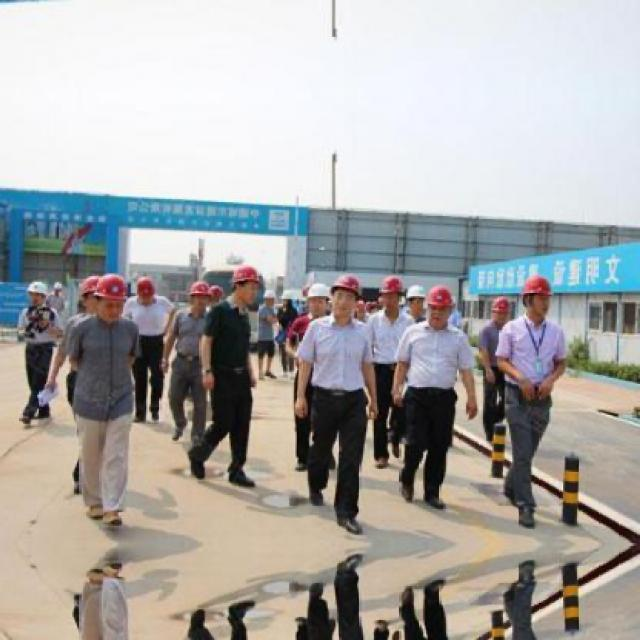helmet: (520, 273, 554, 321), (94, 274, 129, 318), (228, 261, 260, 305), (424, 282, 454, 326), (329, 272, 358, 316), (378, 273, 408, 313), (308, 279, 332, 319), (78, 276, 100, 313), (134, 274, 157, 306), (25, 279, 49, 309), (188, 279, 210, 310), (408, 282, 426, 319), (491, 294, 512, 324), (209, 285, 228, 315), (262, 287, 278, 311), (280, 287, 294, 308)
